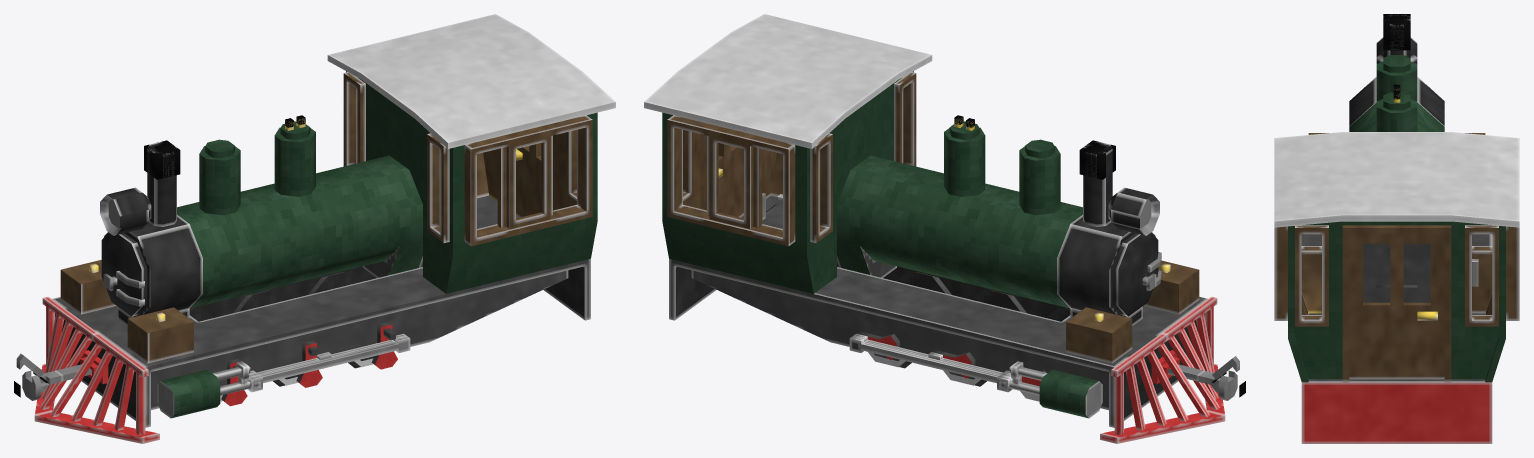
File: kitsune_nymph_oread_locomotive.obj
3 renders of one model, left to right at view 1: azimuth 30°, elevation 25°; view 2: azimuth 150°, elevation 25°; view 3: azimuth 270°, elevation 25°, orthographic.
Parts seen in each view (by area): view 1: FRAME.cab, FRAME.boiler, FRAME, COUPLER_ENGAGED_FRONT_1_TOGGLE_LABEL_Uncouple, FRAME.toolbox.001, FRAME.dome, FRAME.dome.001, STEAM_CHEST_1, FRAME.toolbox, DOOR_2_CONNECTING, FRAME.chimney, MAIN_ROD_LEFT (+7 smaller); view 2: FRAME.cab, FRAME.boiler, FRAME, COUPLER_ENGAGED_FRONT_1_TOGGLE_LABEL_Uncouple, FRAME.toolbox, FRAME.dome, FRAME.dome.001, STEAM_CHEST_1, DOOR_2_CONNECTING, FRAME.toolbox.001, FRAME.chimney, WIDGET_1_TOGGLE_CG_headfront_LABEL_Front^Headlight (+5 smaller); view 3: FRAME.cab, FRAME, DOOR_2_CONNECTING, FRAME.boiler, FRAME.dome, FRAME.dome.001, CHIMNEY_1, FRAME.chimney, WIDGET_1_TOGGLE_CG_headfront_LABEL_Front^Headlight.
Boxes of the visible parts, box(x1,y1,x2,y2) form: FRAME.cab: box(327, 14, 615, 293); FRAME.boiler: box(101, 155, 422, 325); FRAME: box(52, 195, 590, 427); COUPLER_ENGAGED_FRONT_1_TOGGLE_LABEL_Uncouple: box(14, 296, 159, 443); FRAME.toolbox.001: box(127, 307, 193, 363); FRAME.dome: box(199, 139, 240, 215); FRAME.dome.001: box(274, 121, 315, 196); STEAM_CHEST_1: box(157, 366, 250, 418); FRAME.toolbox: box(60, 260, 116, 314); DOOR_2_CONNECTING: box(516, 135, 555, 217); FRAME.chimney: box(147, 141, 176, 226); MAIN_ROD_LEFT: box(247, 336, 410, 392); FRAME.cab: box(644, 14, 932, 293); FRAME.boiler: box(837, 155, 1158, 325); FRAME: box(669, 195, 1207, 427); COUPLER_ENGAGED_FRONT_1_TOGGLE_LABEL_Uncouple: box(1100, 296, 1245, 443); FRAME.toolbox: box(1066, 307, 1132, 363); FRAME.dome: box(1019, 139, 1060, 215); FRAME.dome.001: box(944, 121, 985, 196); STEAM_CHEST_1: box(1009, 366, 1102, 418); DOOR_2_CONNECTING: box(704, 135, 743, 217); FRAME.toolbox.001: box(1143, 260, 1199, 314); FRAME.chimney: box(1083, 142, 1112, 226); WIDGET_1_TOGGLE_CG_headfront_LABEL_Front^Headlight: box(1108, 187, 1159, 235); FRAME.cab: box(1274, 132, 1519, 382); FRAME: box(1301, 234, 1492, 443); DOOR_2_CONNECTING: box(1349, 234, 1444, 379); FRAME.boiler: box(1349, 77, 1444, 302); FRAME.dome: box(1376, 55, 1417, 100); FRAME.dome.001: box(1376, 92, 1417, 131); CHIMNEY_1: box(1383, 14, 1410, 50); FRAME.chimney: box(1383, 14, 1410, 57); WIDGET_1_TOGGLE_CG_headfront_LABEL_Front^Headlight: box(1376, 37, 1417, 63).
Size of the model in its own units: 5.81 by 2.62 by 2.25.
Materials: 7 (7 with a texture image).
